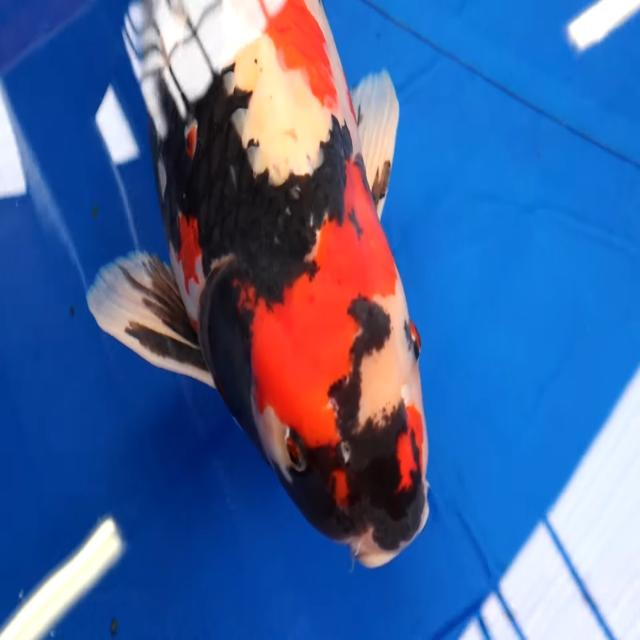Showa: (84, 0, 431, 571)
